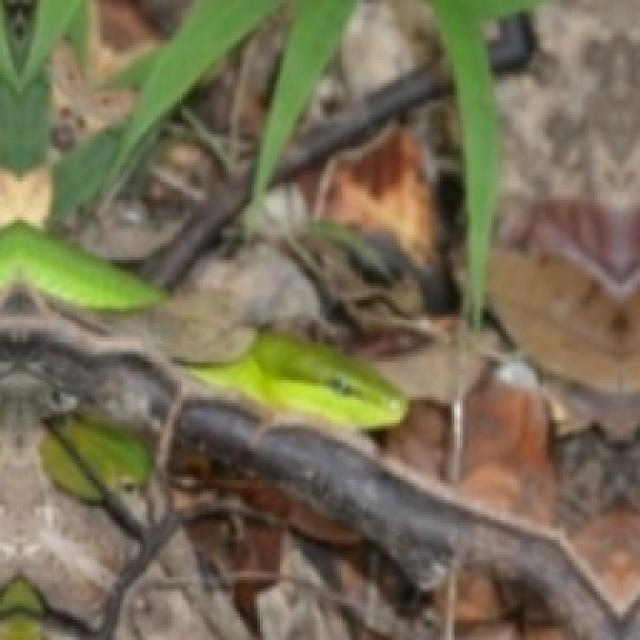red-tailed green ratsnake: (186, 331, 406, 426), (0, 222, 166, 309)
